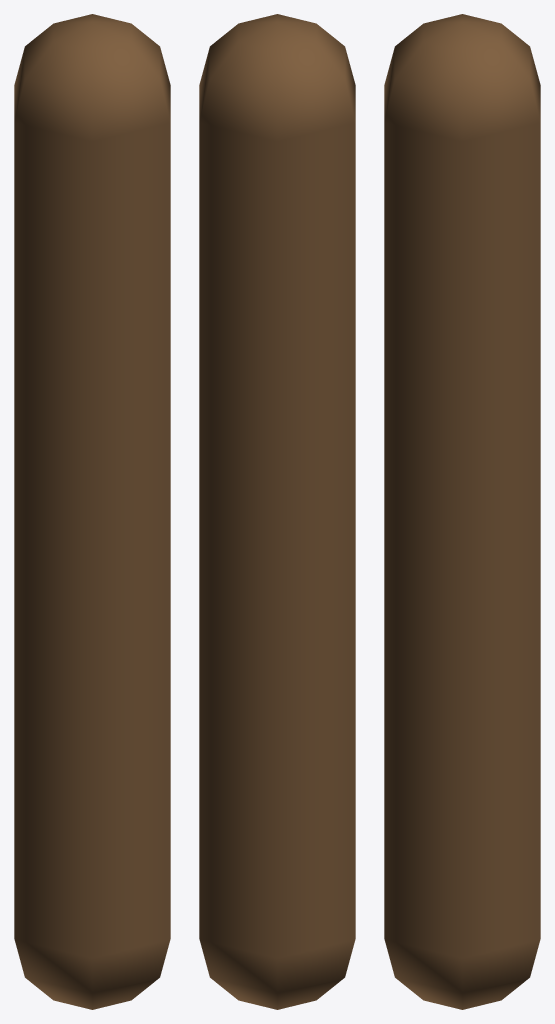
Rendered from tail.glb.
The picture shows the model from 3 angles, left to right: view 1: azimuth 30°, elevation 25°; view 2: azimuth 150°, elevation 25°; view 3: azimuth 270°, elevation 25°; orthographic projection.
Parts seen in each view (by area): view 1: part_0; view 2: part_0; view 3: part_0.
Boxes of the visible parts, box(x1,y1,x2,y2) form: part_0: box(14, 14, 170, 1009); part_0: box(199, 14, 355, 1009); part_0: box(384, 14, 540, 1009).
Size of the model in its own units: 0.04 by 0.24 by 0.0346.
